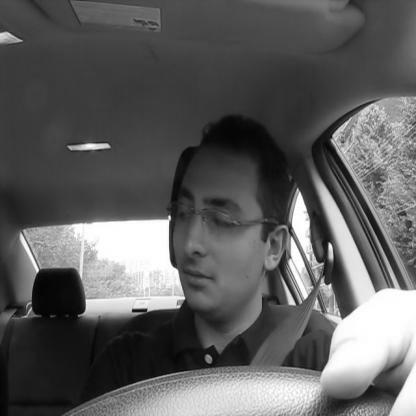seatbelt: (164, 111, 339, 416)
